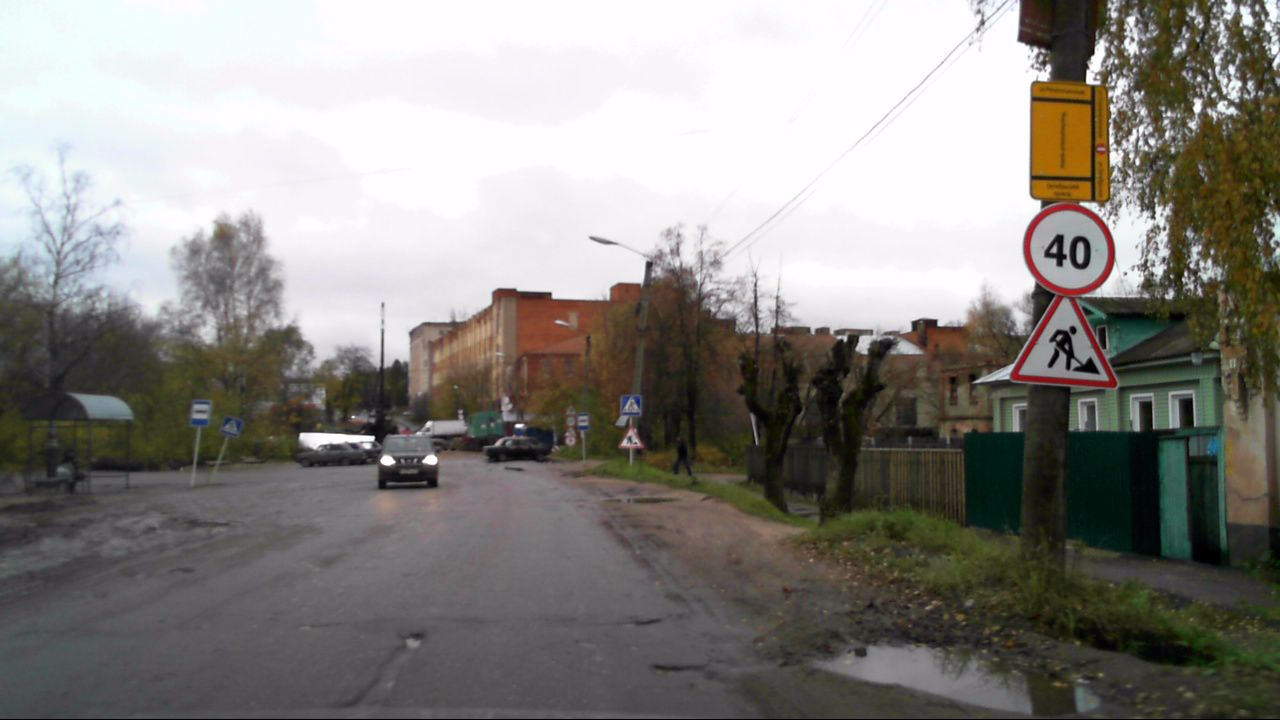speed_warning_40: (1021, 203, 1117, 297)
